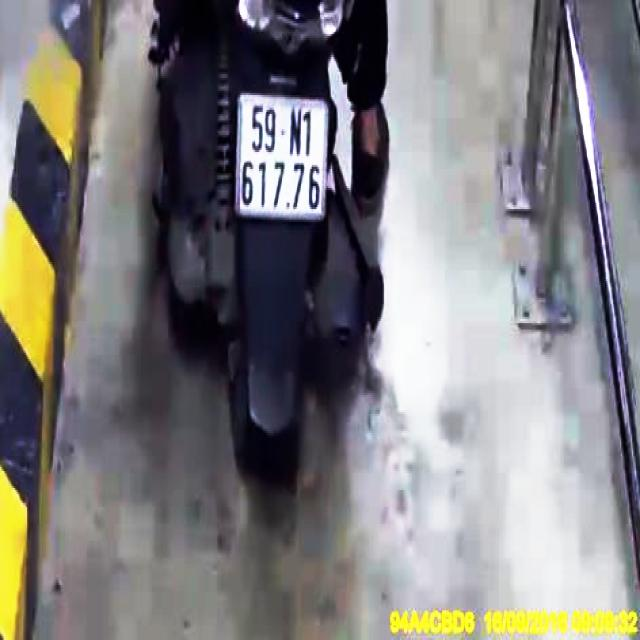license_plate: (241, 92, 331, 222)
